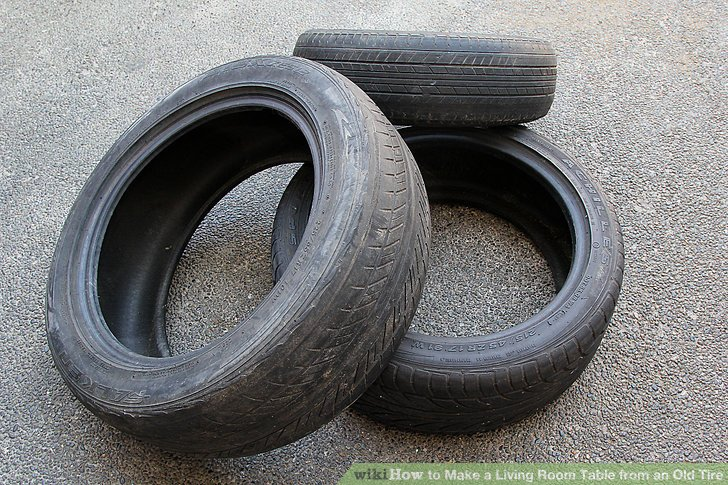tire: (46, 57, 430, 457), (272, 124, 625, 435), (292, 28, 556, 124)
